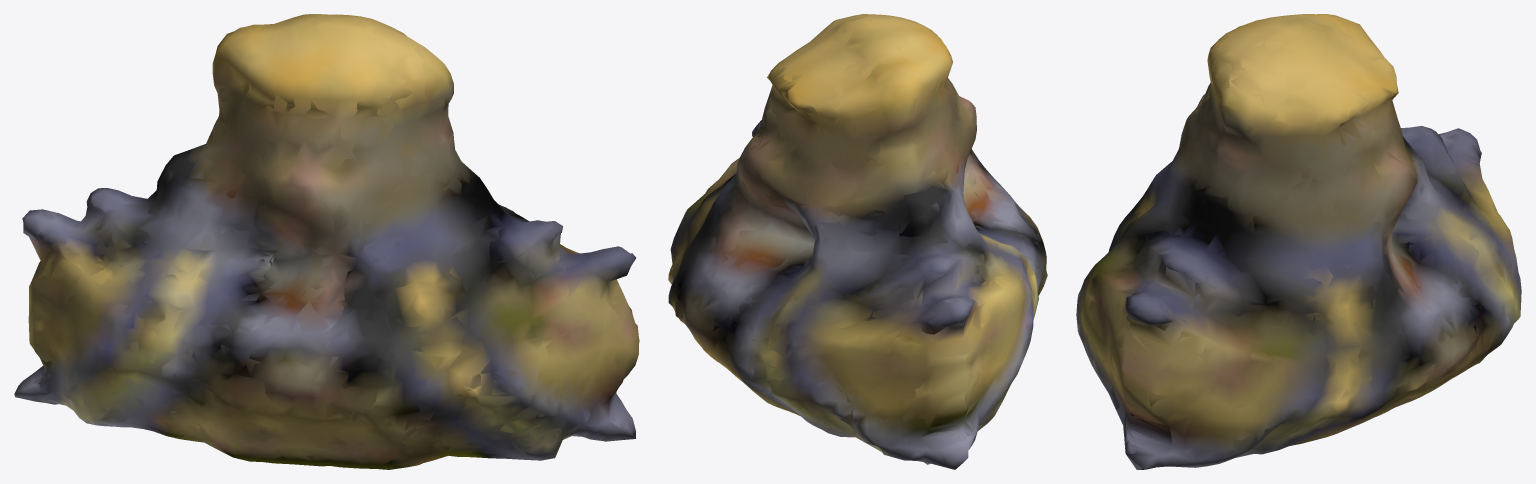
File: yuri_gatling_cannon.glb
3 renders of one model, left to right at view 1: azimuth 30°, elevation 25°; view 2: azimuth 150°, elevation 25°; view 3: azimuth 270°, elevation 25°, orthographic. The views are drawn at different scales.
Parts seen in each view (by area): view 1: yuri_gatling_cannon; view 2: yuri_gatling_cannon; view 3: yuri_gatling_cannon.
Boxes of the visible parts, <box> form: yuri_gatling_cannon: <box>14,14,639,469</box>; yuri_gatling_cannon: <box>668,14,1047,469</box>; yuri_gatling_cannon: <box>1076,14,1521,469</box>.
Size of the model in its own units: 1.83 by 1.57 by 1.8.
